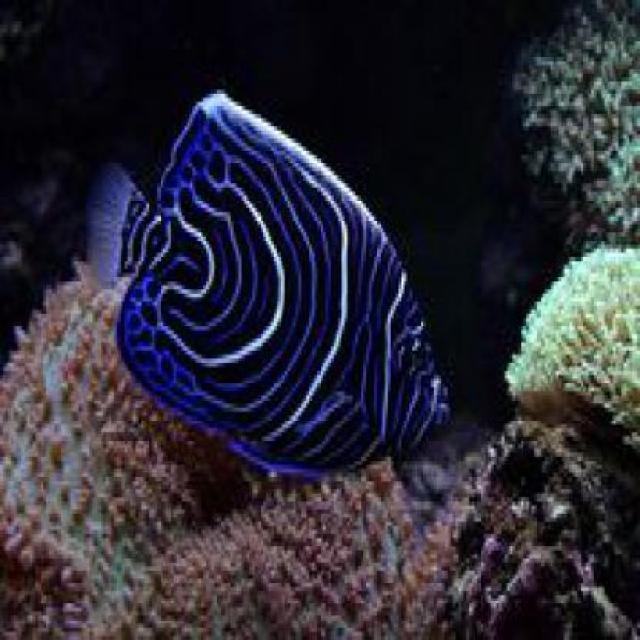AngelFish: (84, 86, 441, 472)
